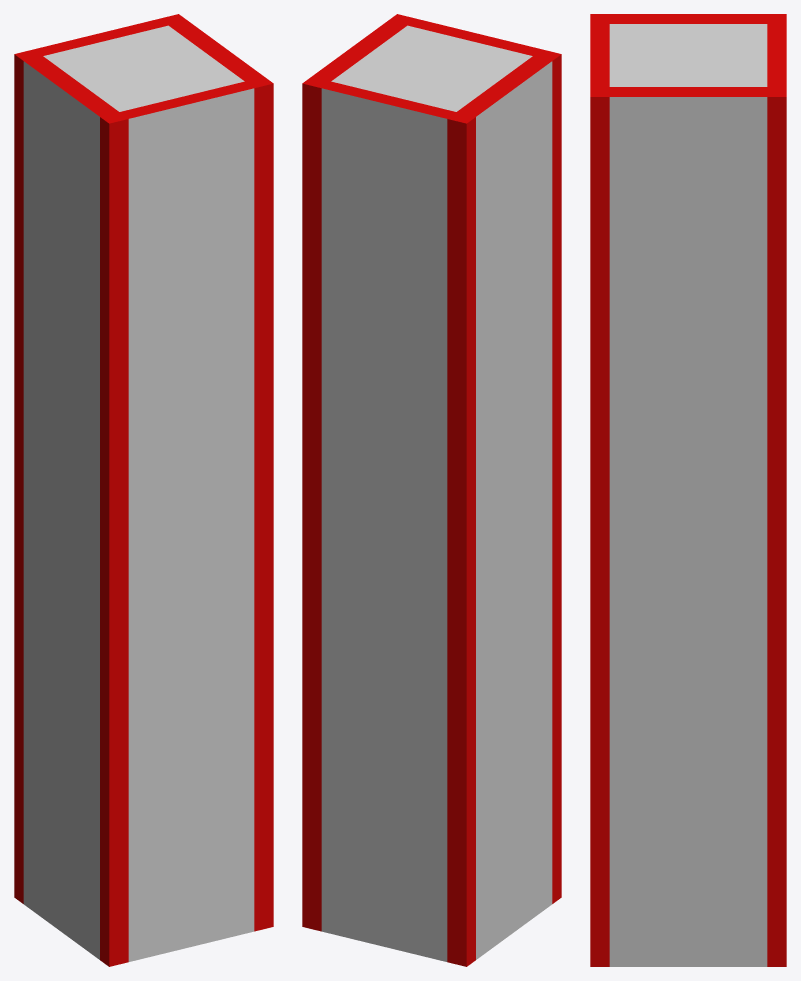
File: Column.fbx
The picture shows the model from 3 angles, left to right: view 1: azimuth 30°, elevation 25°; view 2: azimuth 150°, elevation 25°; view 3: azimuth 270°, elevation 25°; orthographic projection. The views are drawn at different scales.
Parts seen in each view (by area): view 1: Cube; view 2: Cube; view 3: Cube.
Part boxes in pixels (x1=…): Cube: x1=14, y1=14, x2=273, y2=966; Cube: x1=302, y1=14, x2=561, y2=966; Cube: x1=590, y1=14, x2=786, y2=966.
Size of the model in its own units: 400 by 1959 by 400.
